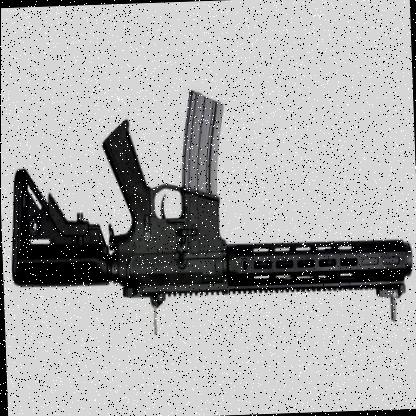rifle: (4, 98, 412, 334)
